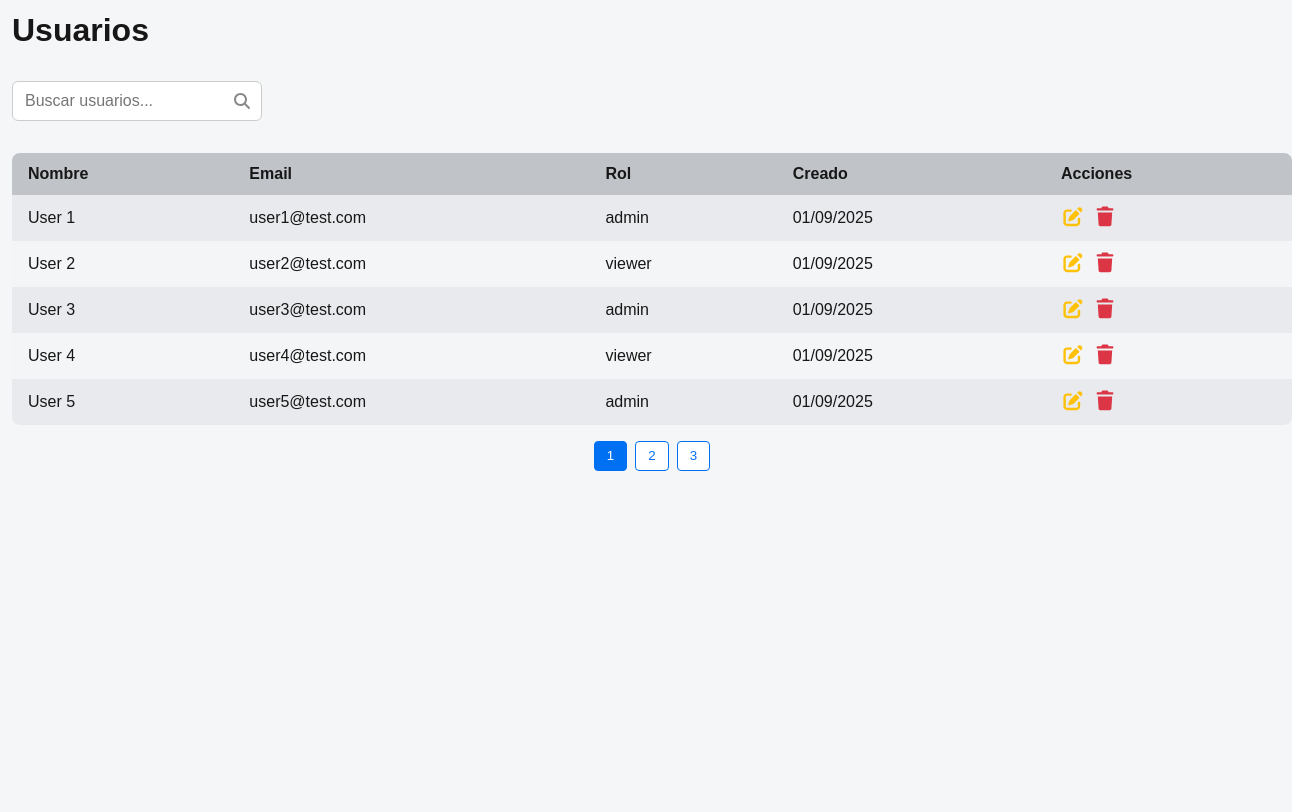
Test: UsersPage › edits a user
Check: the text "User 1" is shown, box [12, 195, 233, 241]
Click the button with test id "edit-u1".
click(1073, 218)  # box [1061, 207, 1085, 229]
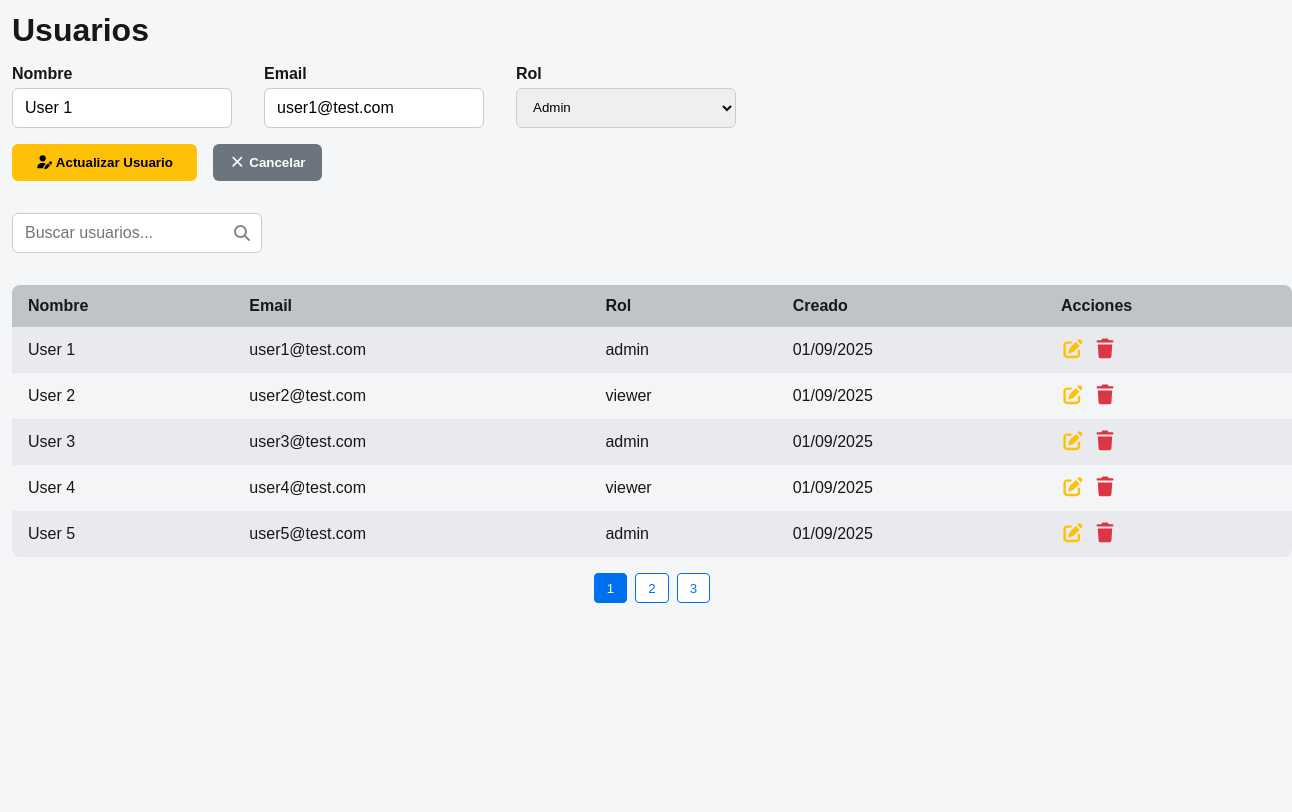
Replace the text in the 1st field with placeholder "Nombre del usuario" with "User 1 updated" at (122, 108), box [12, 88, 232, 128]
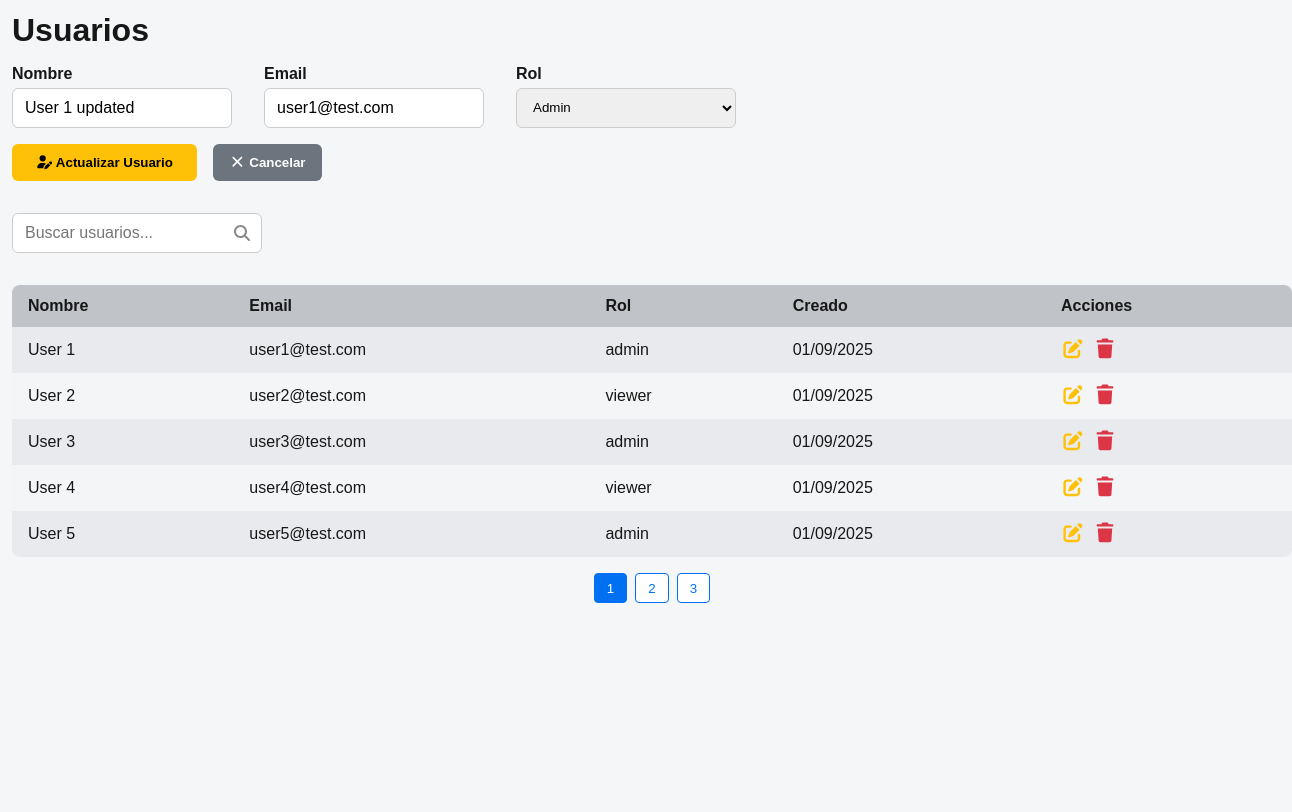
Replace the text in the 2nd field with placeholder "Email del usuario" with "user1updated@test.com" at (374, 108), box [264, 88, 484, 128]
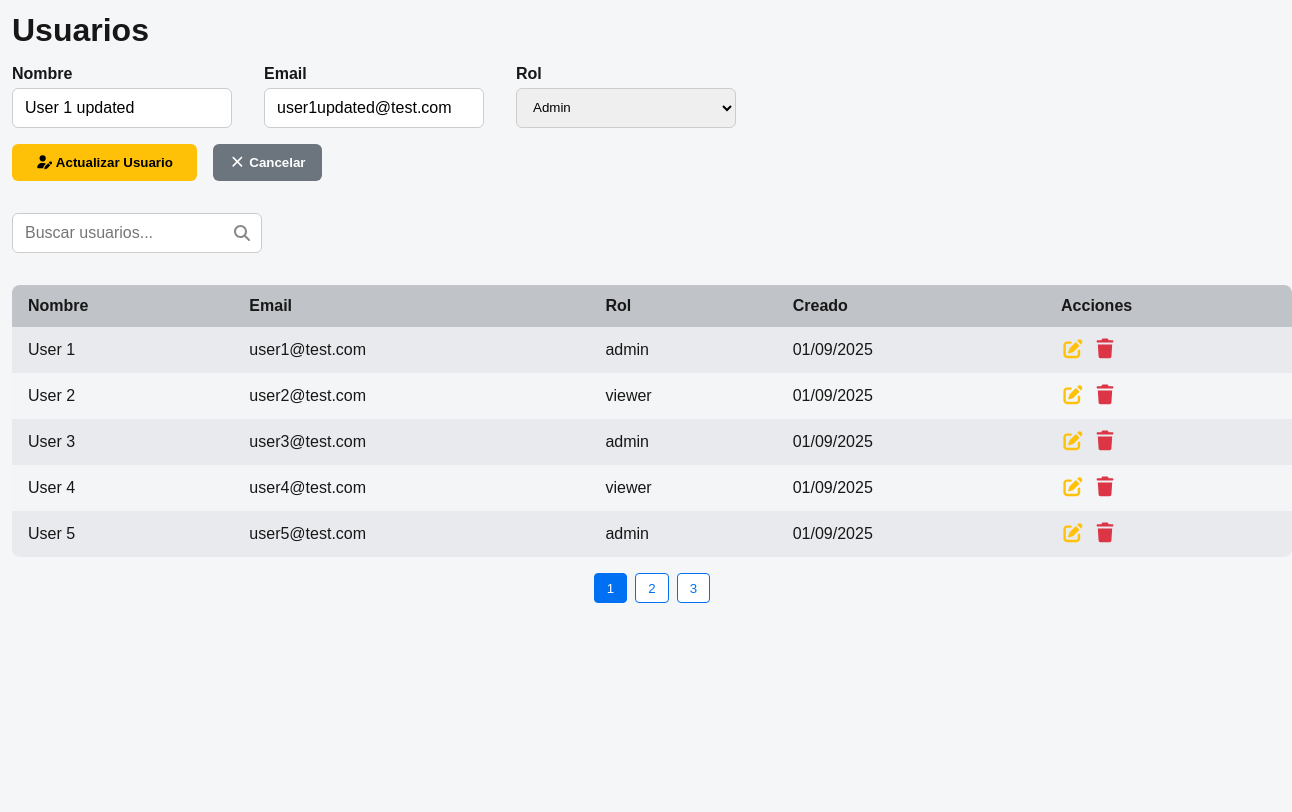
Select "Analyst" in the dropdown at (626, 108), box [516, 88, 736, 128]
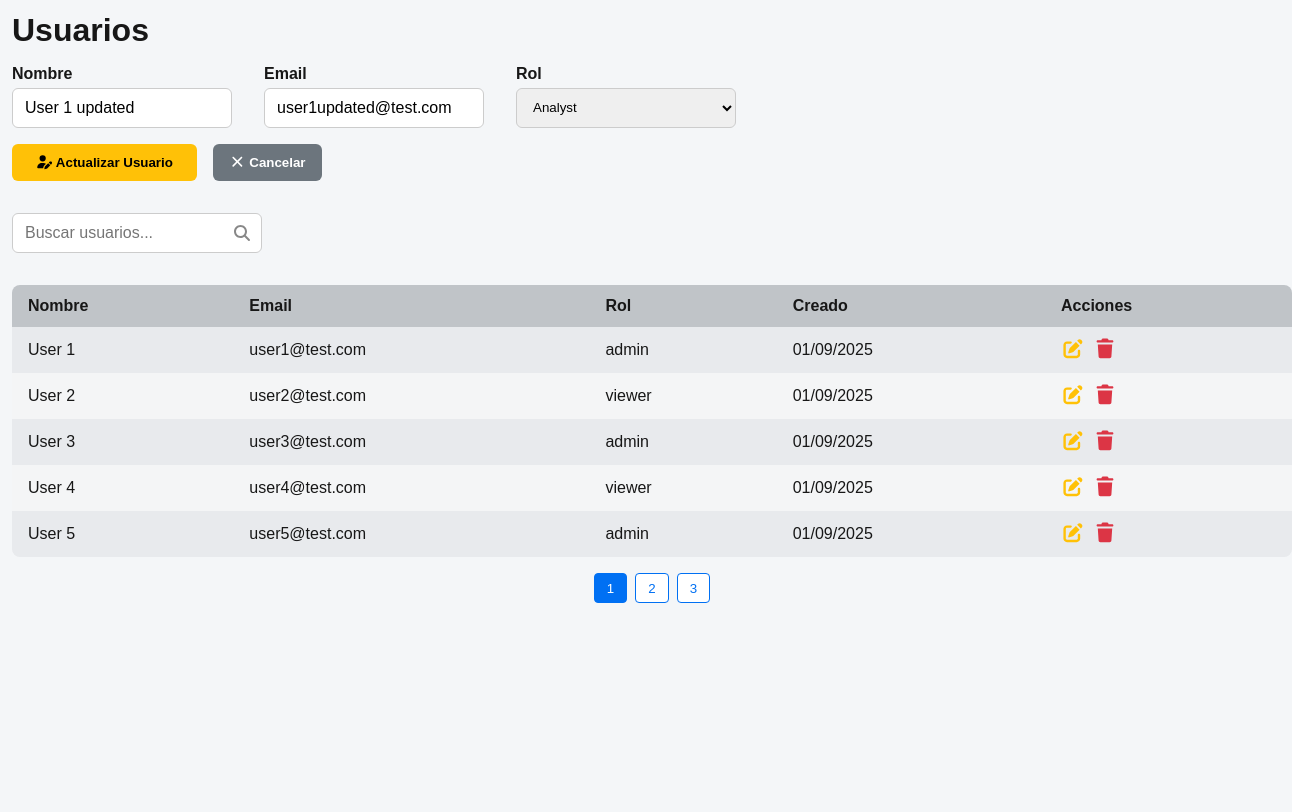
Click the button "Actualizar Usuario".
click(104, 162)  # box [12, 144, 197, 181]
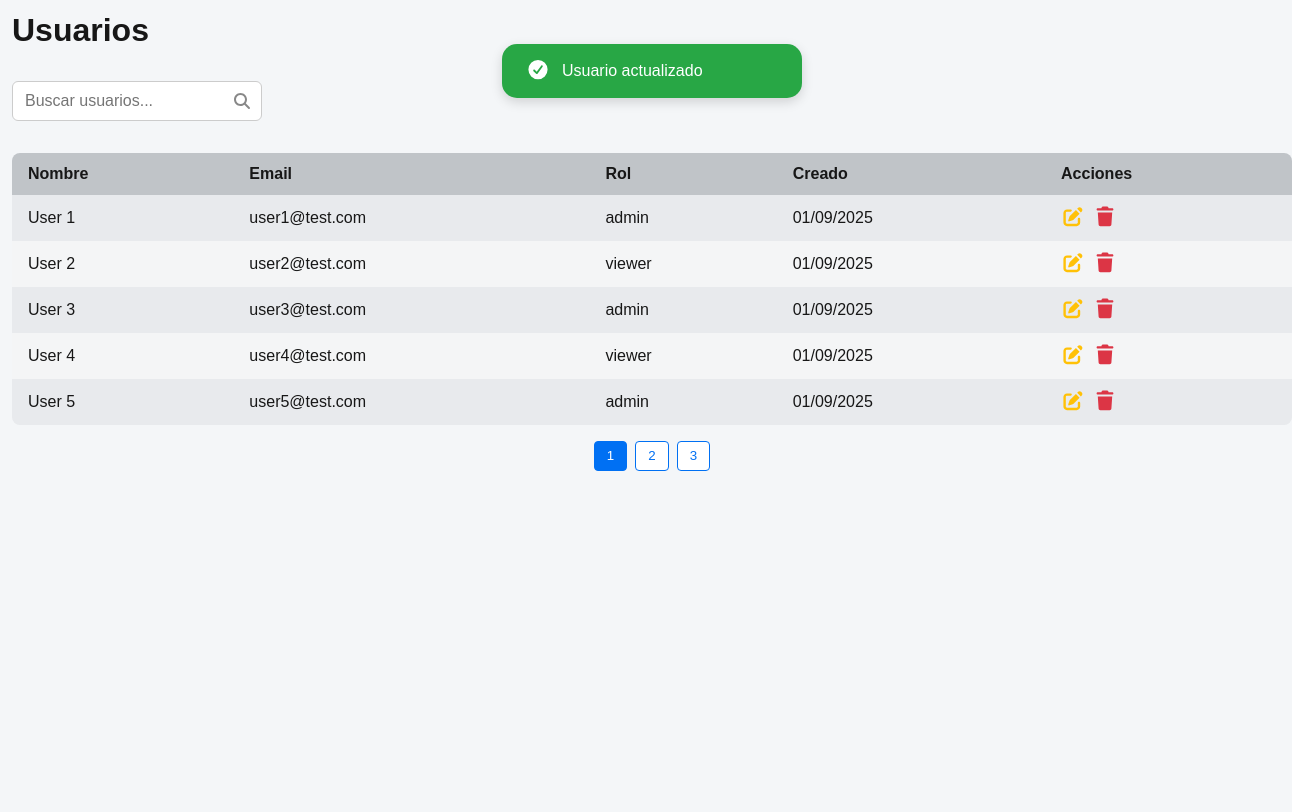
Check: the text "Usuario actualizado" is shown, box [562, 62, 702, 79]
